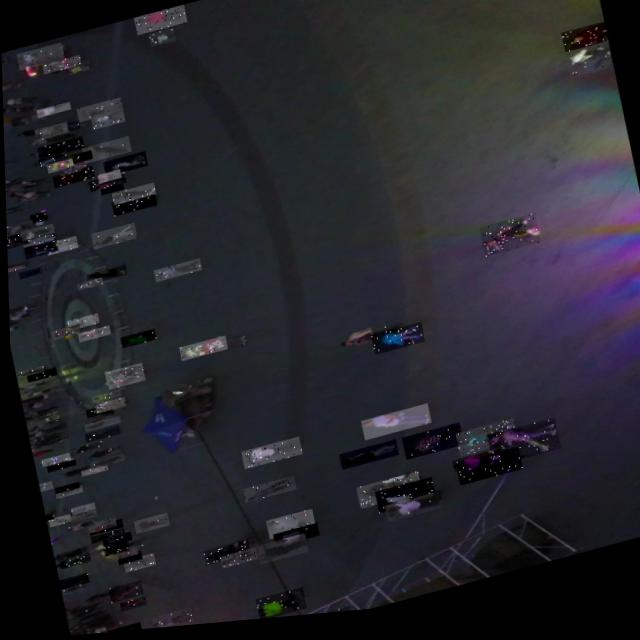Person: (483, 426, 558, 474), (451, 454, 519, 493), (478, 221, 538, 265), (358, 409, 428, 446), (352, 477, 419, 515), (452, 426, 515, 464), (398, 429, 460, 466), (370, 483, 432, 519), (337, 325, 399, 358), (238, 440, 299, 472), (335, 445, 396, 475), (564, 50, 612, 87), (368, 328, 422, 360), (250, 590, 302, 623), (381, 498, 437, 528), (133, 6, 187, 37), (252, 537, 305, 568), (560, 31, 608, 64), (261, 513, 312, 543), (239, 479, 293, 506), (80, 137, 130, 164), (16, 42, 64, 70), (198, 542, 247, 568), (89, 223, 135, 250), (176, 338, 225, 363), (268, 526, 316, 551), (75, 98, 122, 123), (448, 456, 499, 479), (194, 336, 245, 359), (101, 152, 147, 177), (109, 193, 156, 217), (151, 260, 200, 283), (35, 136, 83, 159), (110, 184, 154, 206), (147, 609, 190, 631), (51, 166, 93, 188), (101, 364, 142, 386), (104, 580, 140, 604), (215, 550, 255, 571), (84, 265, 125, 285), (41, 55, 81, 74), (130, 514, 166, 535), (21, 238, 57, 259), (89, 109, 124, 130), (87, 173, 125, 192), (117, 330, 154, 349), (105, 372, 144, 390), (119, 554, 153, 573), (43, 236, 77, 255), (33, 121, 67, 140), (84, 519, 120, 536), (81, 426, 117, 443), (86, 405, 122, 422), (35, 101, 70, 118), (18, 223, 53, 240), (64, 313, 97, 331), (81, 416, 118, 432), (55, 551, 87, 569), (107, 537, 139, 555), (37, 150, 70, 167), (86, 528, 121, 544), (75, 326, 109, 342), (147, 29, 175, 48), (87, 454, 122, 469), (91, 398, 123, 414), (55, 573, 85, 590), (296, 610, 347, 620), (51, 546, 84, 561), (84, 517, 113, 534), (98, 532, 128, 548), (23, 236, 55, 251), (85, 445, 116, 460), (24, 366, 55, 381), (50, 324, 78, 340), (45, 158, 73, 174), (5, 218, 32, 234), (102, 622, 137, 634), (99, 542, 127, 557), (38, 452, 68, 466), (20, 233, 52, 246), (62, 519, 91, 533), (51, 485, 80, 499), (115, 597, 142, 612), (64, 150, 91, 165), (56, 466, 87, 479), (69, 441, 100, 454), (56, 580, 82, 595), (43, 459, 73, 472), (83, 404, 110, 418), (113, 551, 138, 566), (77, 464, 105, 477), (98, 181, 122, 196), (96, 169, 120, 184), (5, 229, 29, 244), (74, 277, 101, 290), (89, 390, 118, 402), (67, 502, 92, 515), (67, 510, 94, 522), (50, 481, 77, 493), (15, 365, 42, 377), (45, 513, 68, 527), (56, 120, 79, 134), (67, 61, 89, 75), (16, 266, 41, 278), (111, 548, 135, 560), (5, 235, 27, 248), (57, 165, 81, 176), (27, 210, 46, 223), (35, 480, 49, 491), (6, 263, 23, 272), (51, 559, 63, 569), (41, 512, 51, 520), (90, 526, 100, 531)
